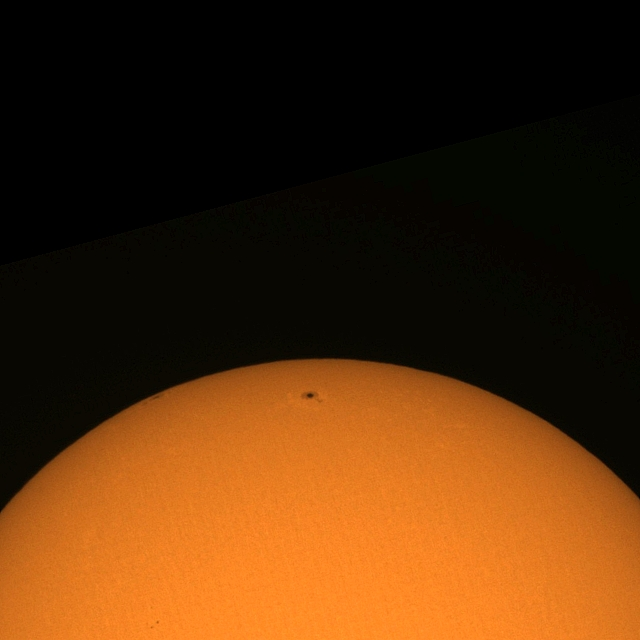sunspot: (300, 390, 323, 405), (151, 620, 160, 629)
